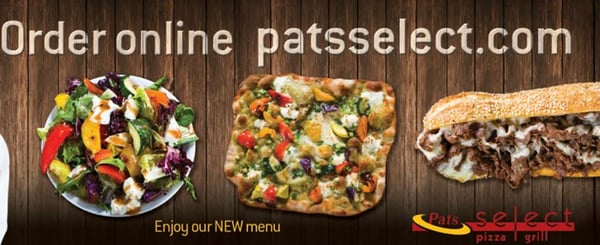soup: (417, 80, 600, 188)
